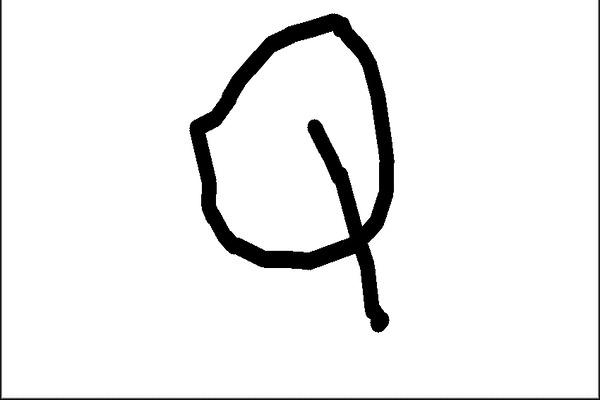Q: (175, 10, 411, 342)
